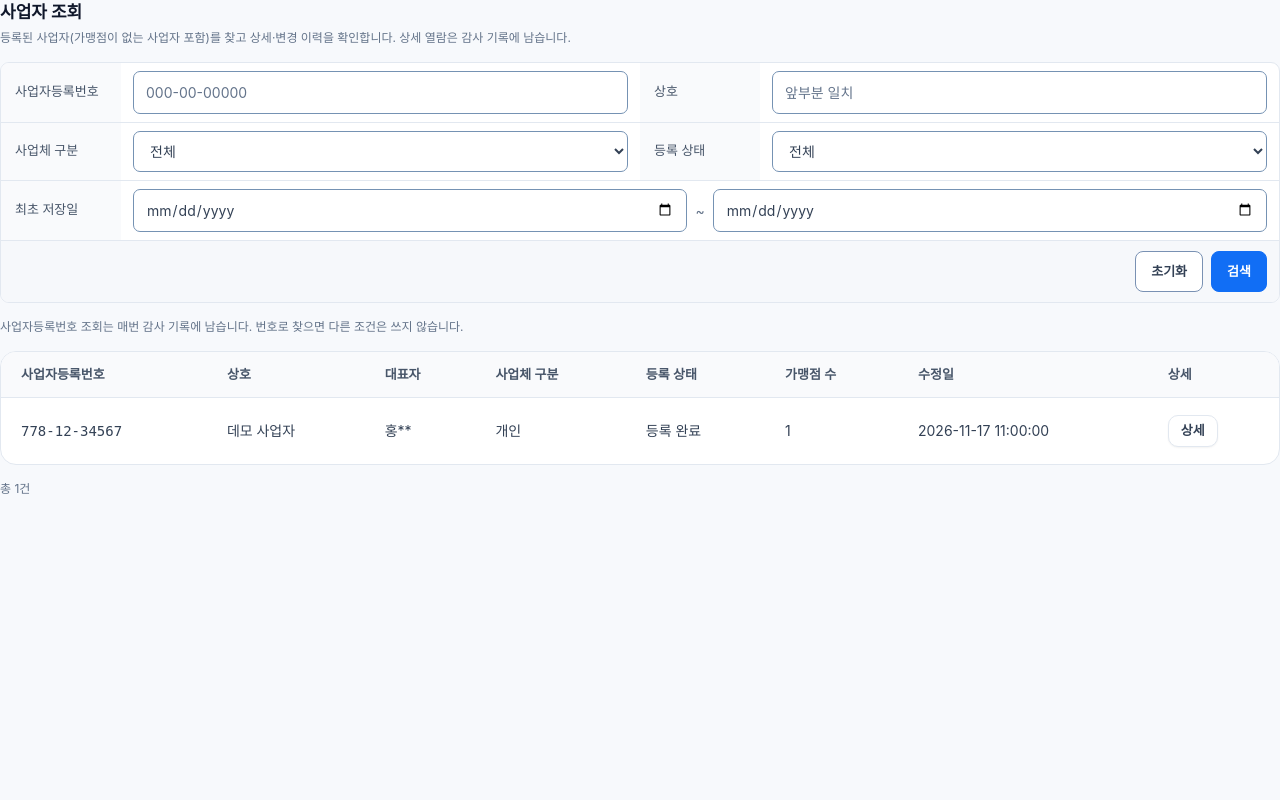
Scenario: MERCHANT-FLOW-001 FLOW-1 — 사업자 상세 계약 진행 섹션(접수 건 표시) › 접수 건 없음: 빈 안내
Click the button with aria-label "데모 사업자 상세".
click(1193, 431)  # box [1168,415,1218,447]
(page scrolled)
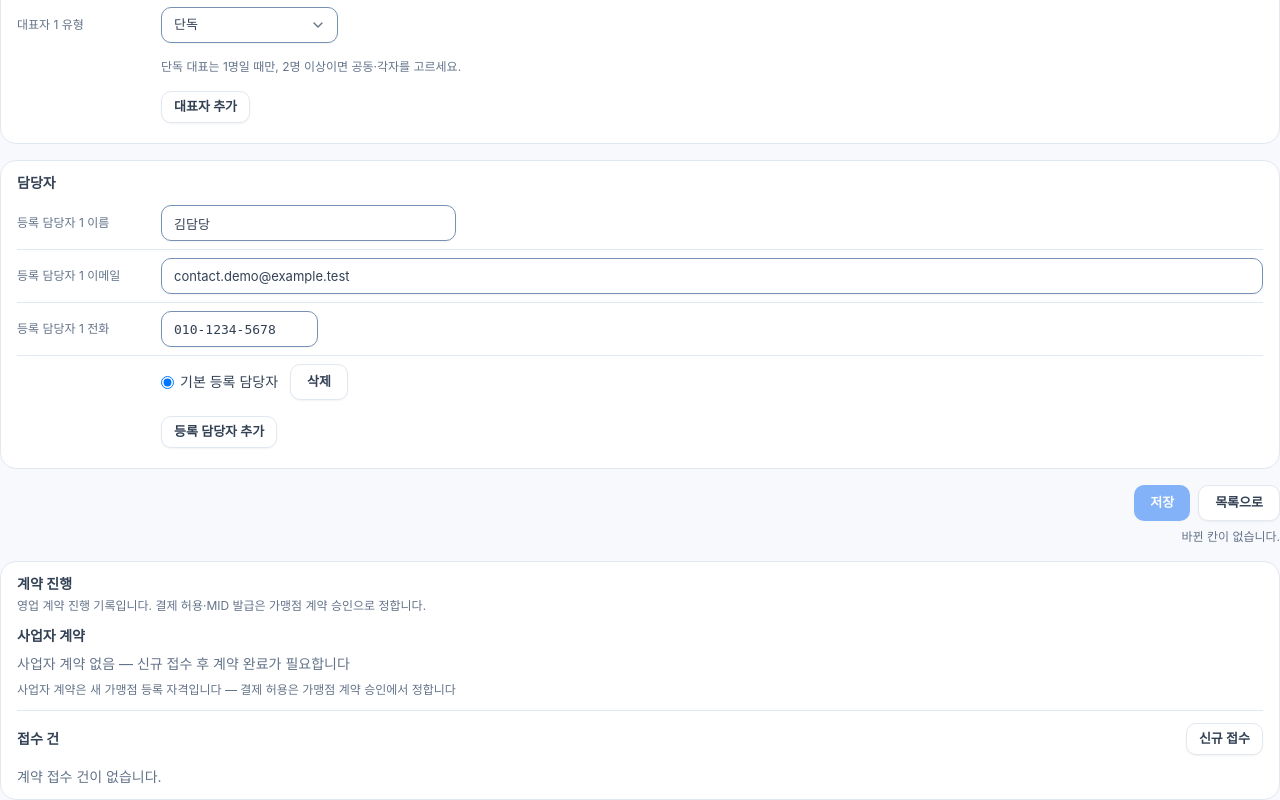
Result: the element "계약 진행" shows "계약 접수 건이 없습니다." at [17,768,162,785]
